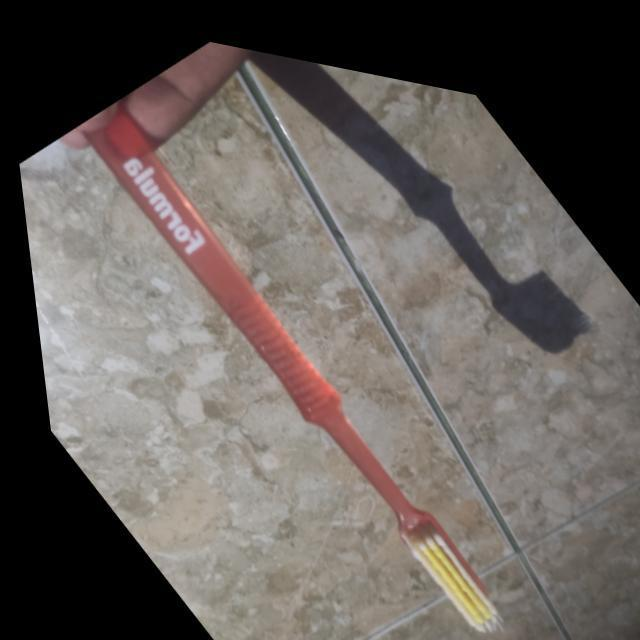toothbrush: (66, 82, 522, 640)
